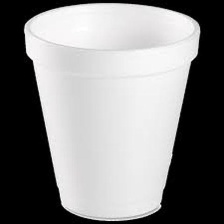paper_cup: (18, 0, 206, 224)
